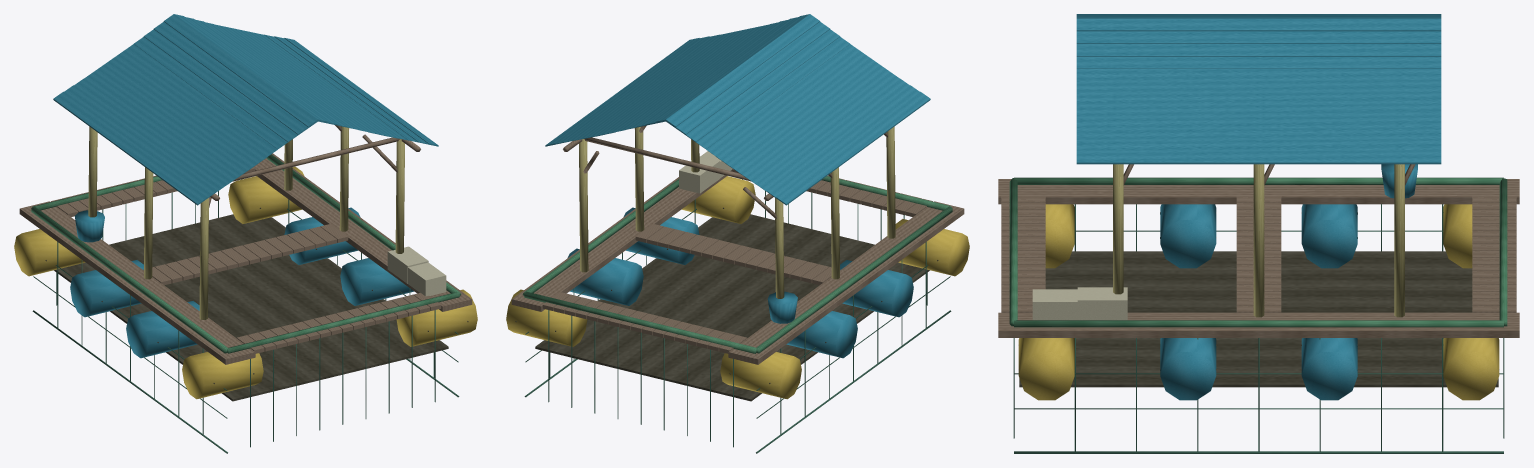
File: bung-raft-0-blue.glb
3 renders of one model, left to right at view 1: azimuth 30°, elevation 25°; view 2: azimuth 150°, elevation 25°; view 3: azimuth 270°, elevation 25°, orthographic. The views are drawn at different scales.
Visible parts, largest first — view 1: bung-raft-0-blue; view 2: bung-raft-0-blue; view 3: bung-raft-0-blue.
Part boxes in pixels (box(x1,y1,x2,y2)): bung-raft-0-blue: box(14, 14, 477, 453); bung-raft-0-blue: box(506, 14, 969, 453); bung-raft-0-blue: box(998, 14, 1519, 453).
Bounding box in the file's own units: 4.14 × 4.17 × 5.4.
Materials: 1 (1 with a texture image).
